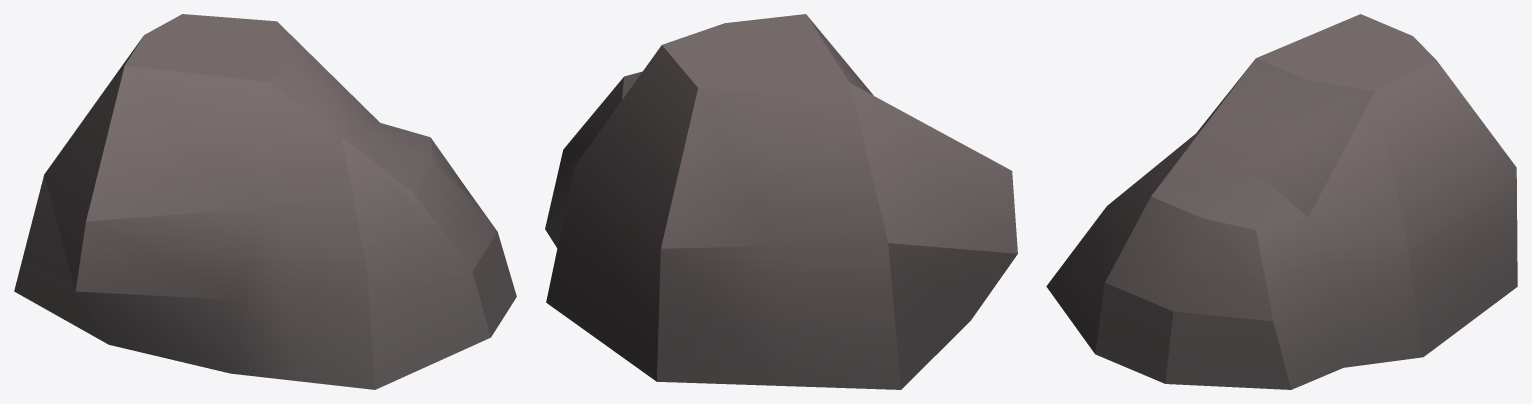
The model's file is Boulder.fbx.
3 renders of one model, left to right at view 1: azimuth 30°, elevation 25°; view 2: azimuth 150°, elevation 25°; view 3: azimuth 270°, elevation 25°, orthographic. The views are drawn at different scales.
Visible parts, largest first — view 1: Boulder.001; view 2: Boulder.001; view 3: Boulder.001.
Boxes of the visible parts, <box> form: Boulder.001: <box>14,14,516,389</box>; Boulder.001: <box>545,14,1017,389</box>; Boulder.001: <box>1046,14,1517,389</box>.
Size of the model in its own units: 94.66 by 51.42 by 96.27.
